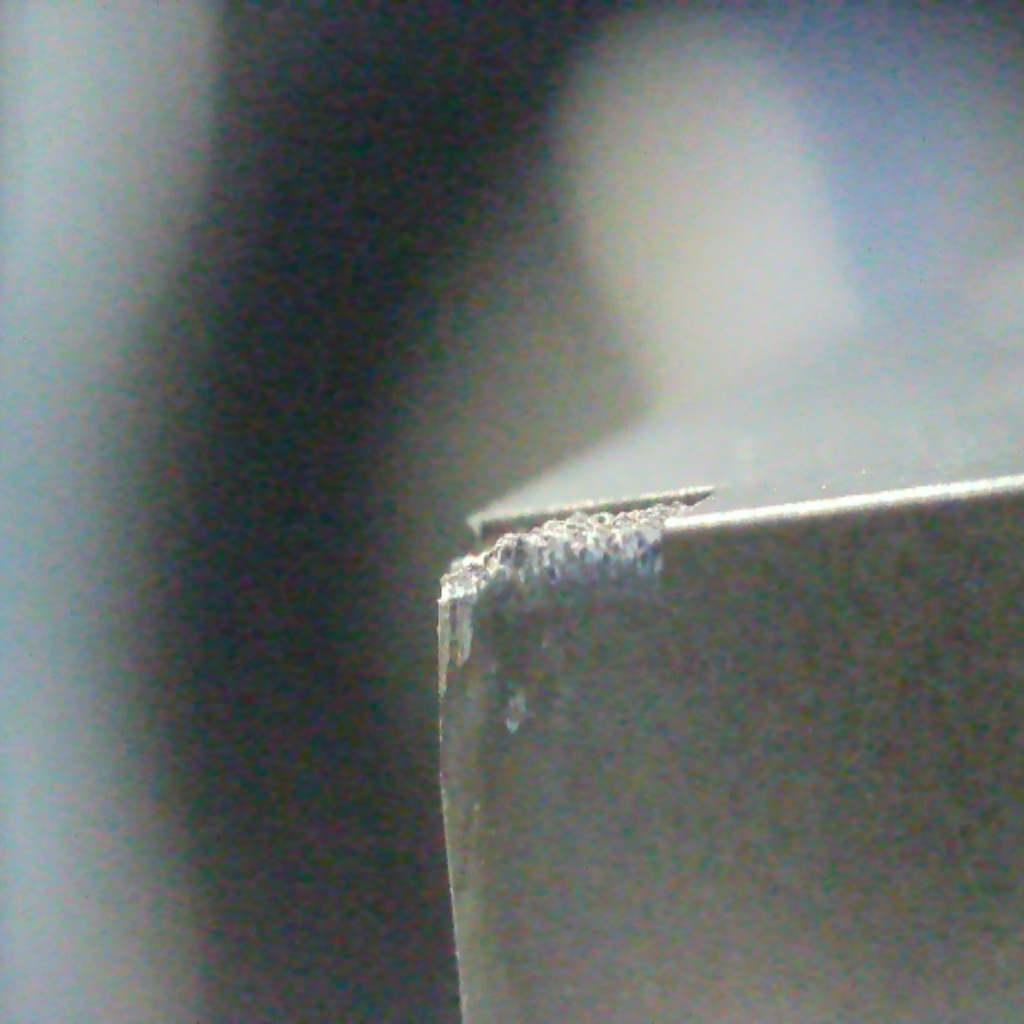flank_wear: (432, 584, 482, 718)
